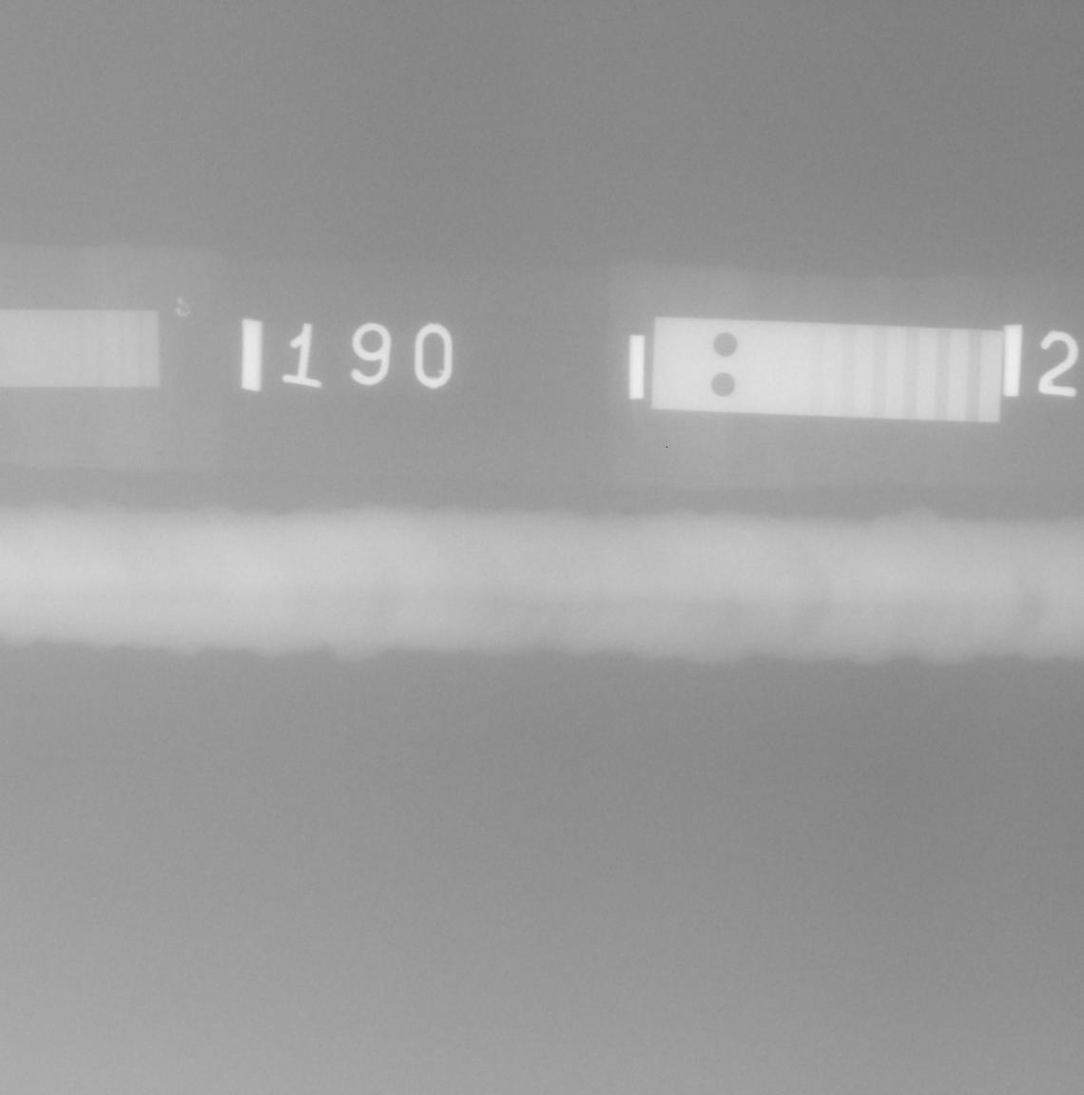Reference Standard 2: (651, 317, 1002, 423)
